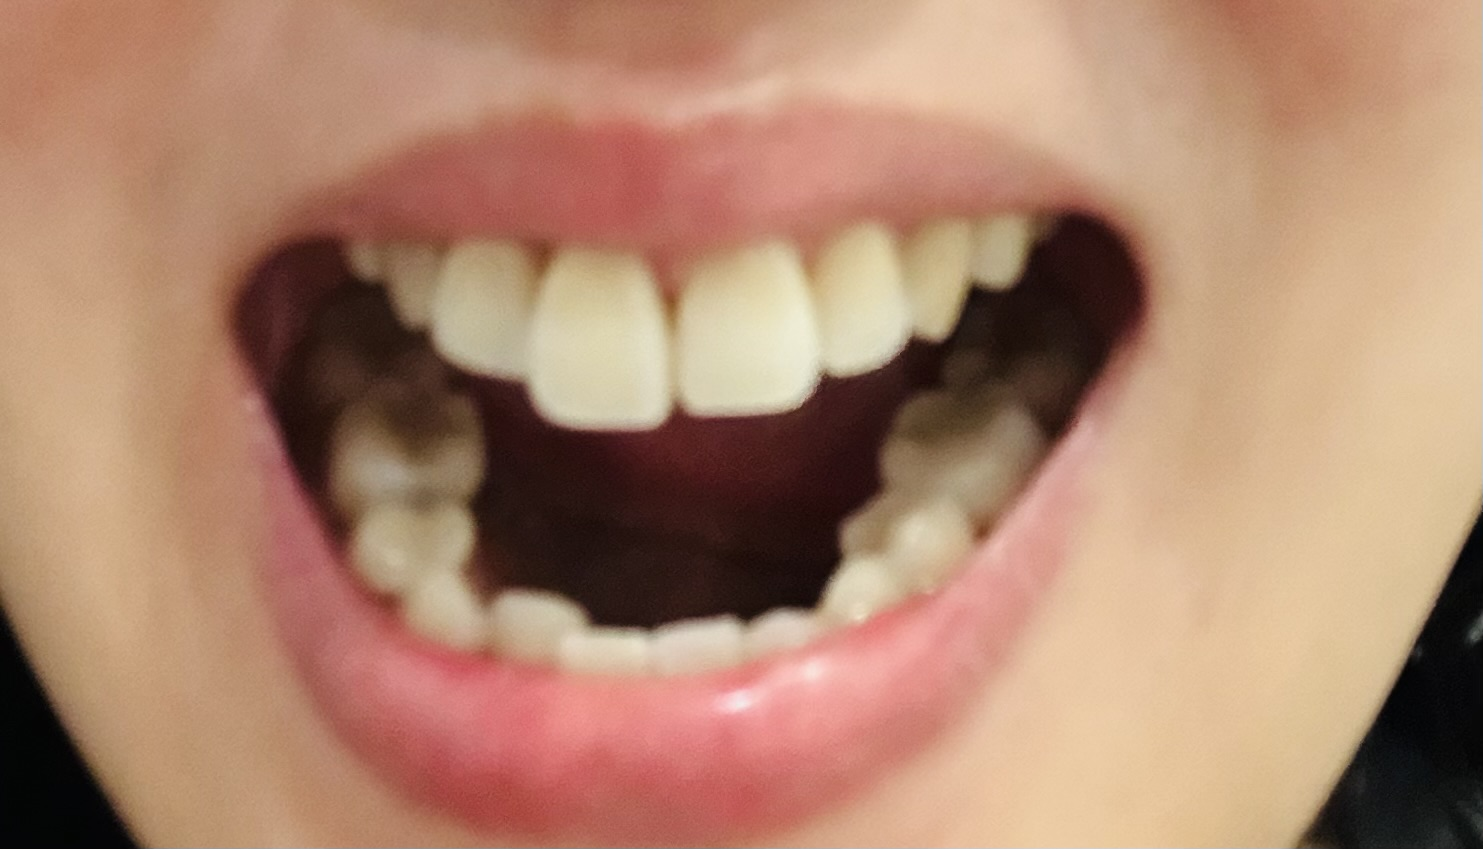teeth: (521, 237, 672, 428), (866, 383, 1048, 508), (684, 247, 821, 413), (333, 400, 489, 509), (942, 299, 1102, 403), (432, 234, 544, 382), (317, 291, 444, 410), (819, 222, 913, 379), (839, 490, 970, 582), (353, 493, 470, 592), (910, 211, 974, 335), (407, 572, 488, 649), (490, 595, 592, 656), (652, 615, 749, 676), (821, 560, 916, 619), (563, 623, 651, 678), (976, 214, 1039, 277), (748, 607, 831, 654), (394, 232, 429, 326), (347, 232, 382, 278)
